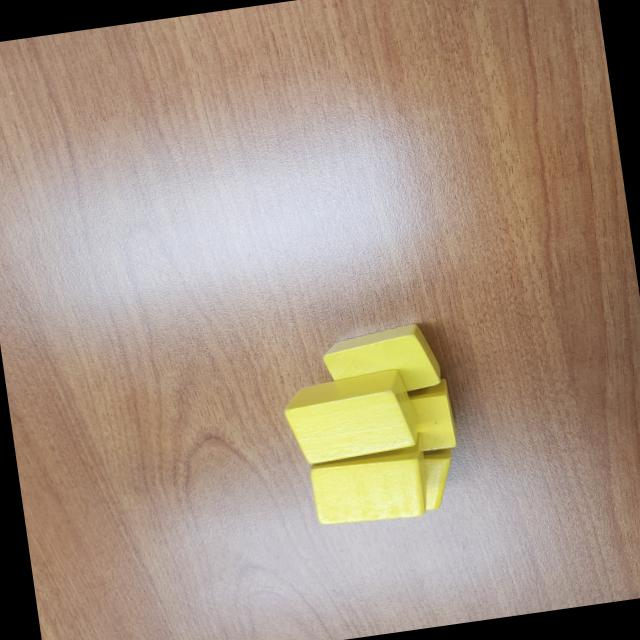yellow: (284, 366, 424, 468), (306, 432, 436, 530), (318, 320, 446, 404), (346, 377, 461, 462), (411, 452, 461, 512)
